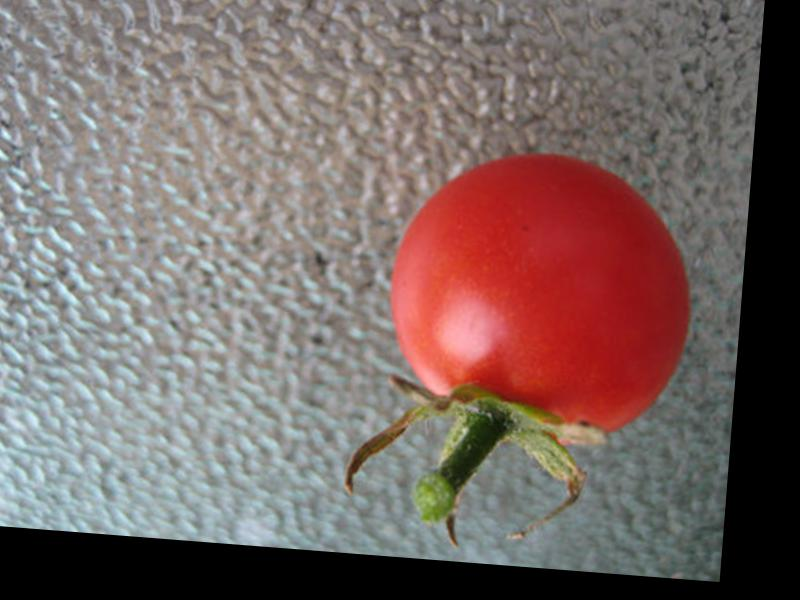Tomato: (376, 140, 699, 439)
